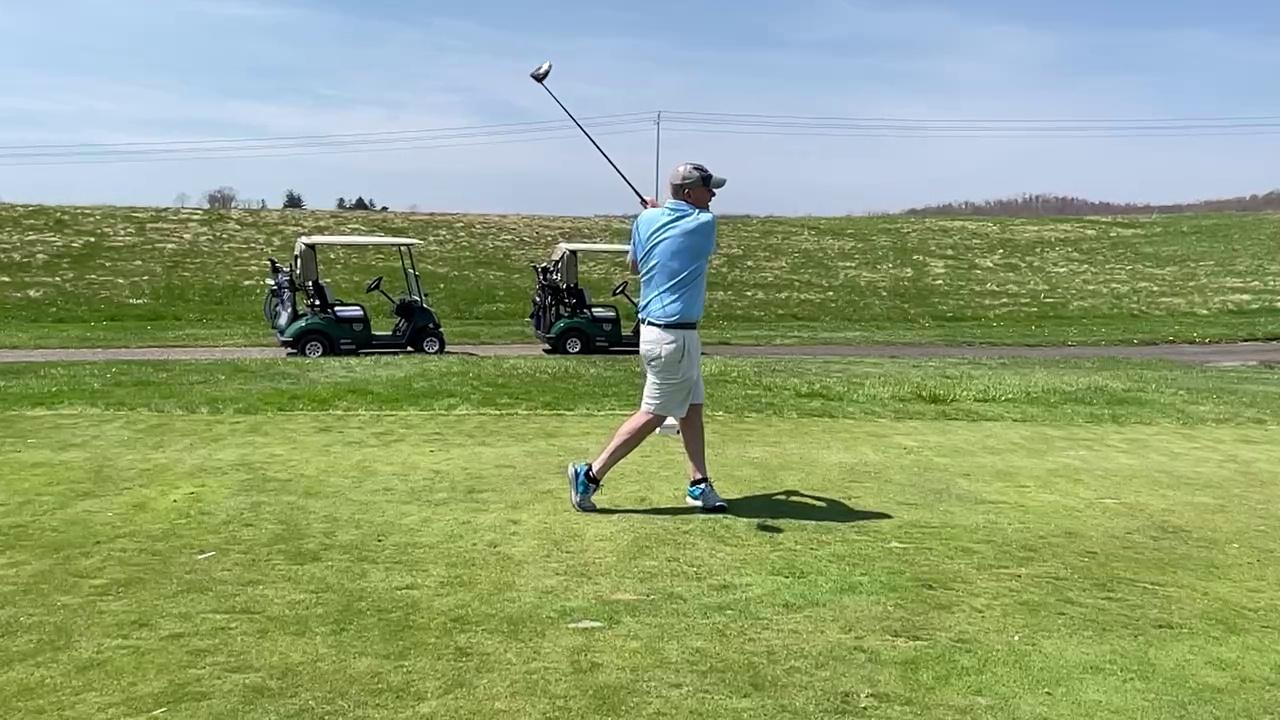ClubHead: (527, 56, 557, 98)
